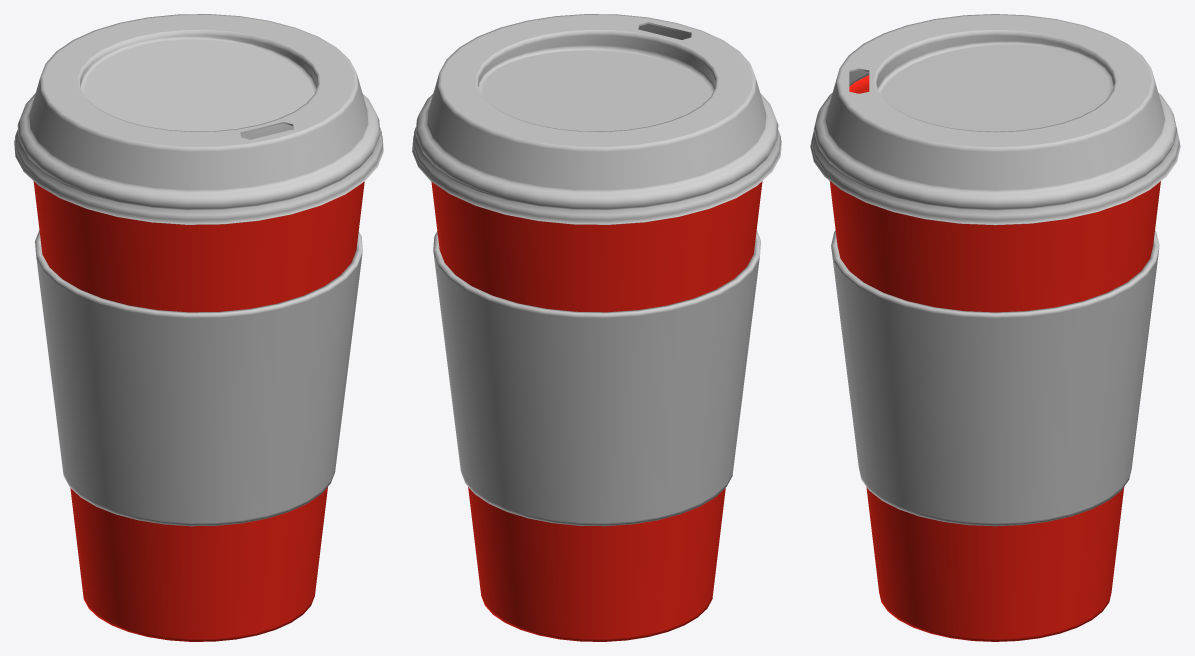
The model's file is coffee.obj.
3 views of the same model, side by side, from view 1: azimuth 30°, elevation 25°; view 2: azimuth 150°, elevation 25°; view 3: azimuth 270°, elevation 25° (orthographic).
Visible parts, largest first — view 1: Sleeve, Lid, Cup; view 2: Sleeve, Lid, Cup; view 3: Sleeve, Lid, Cup.
Boxes of the visible parts, box(x1,y1,x2,y2) form: Sleeve: box(35, 230, 362, 526); Lid: box(14, 14, 383, 224); Cup: box(33, 181, 364, 641); Sleeve: box(433, 230, 760, 526); Lid: box(412, 14, 781, 224); Cup: box(431, 181, 762, 641); Sleeve: box(831, 230, 1159, 526); Lid: box(810, 14, 1180, 225); Cup: box(829, 75, 1160, 641).
Size of the model in its own units: 3.19 by 4.86 by 3.19.
